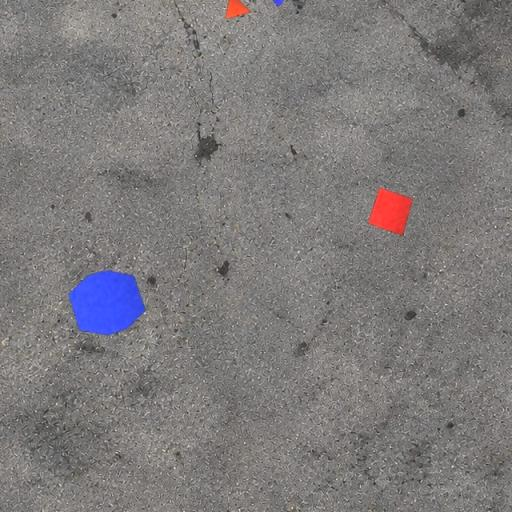RED_SQUARE: (368, 187, 414, 237)
